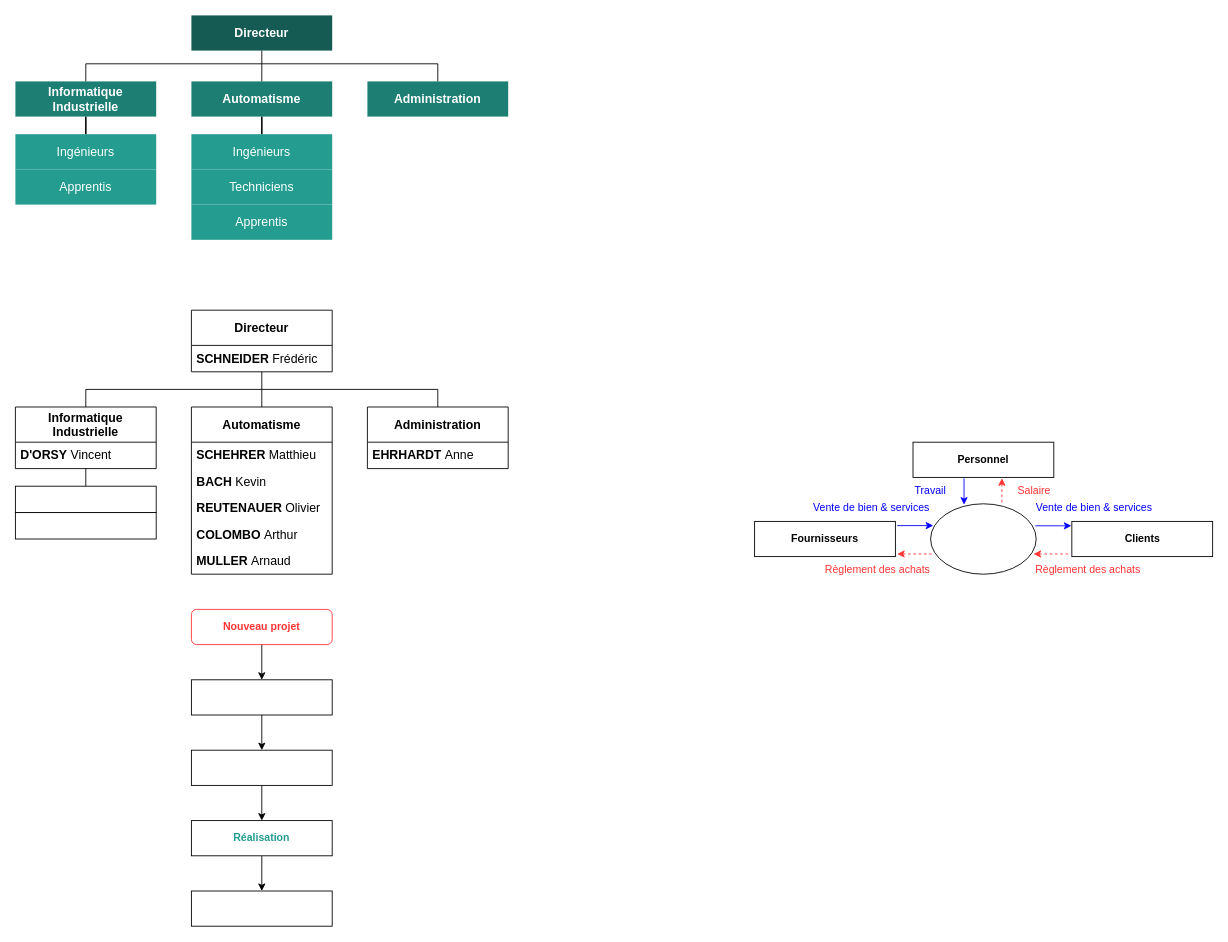
Image size: 1228x942. Some labels were removed from this diagram. The shapes that lost their labels are listed below. From the top down, each one's centre as x and y in pixels, then its label:
the point at 85,499: KRATZ Raphaël
the point at 85,525: ZURETTI Joris
the point at 983,538: Entreprise
the point at 261,697: Etude de faisabilité
the point at 261,767: Analyse Fonctionnelle
the point at 261,908: Mise en service
